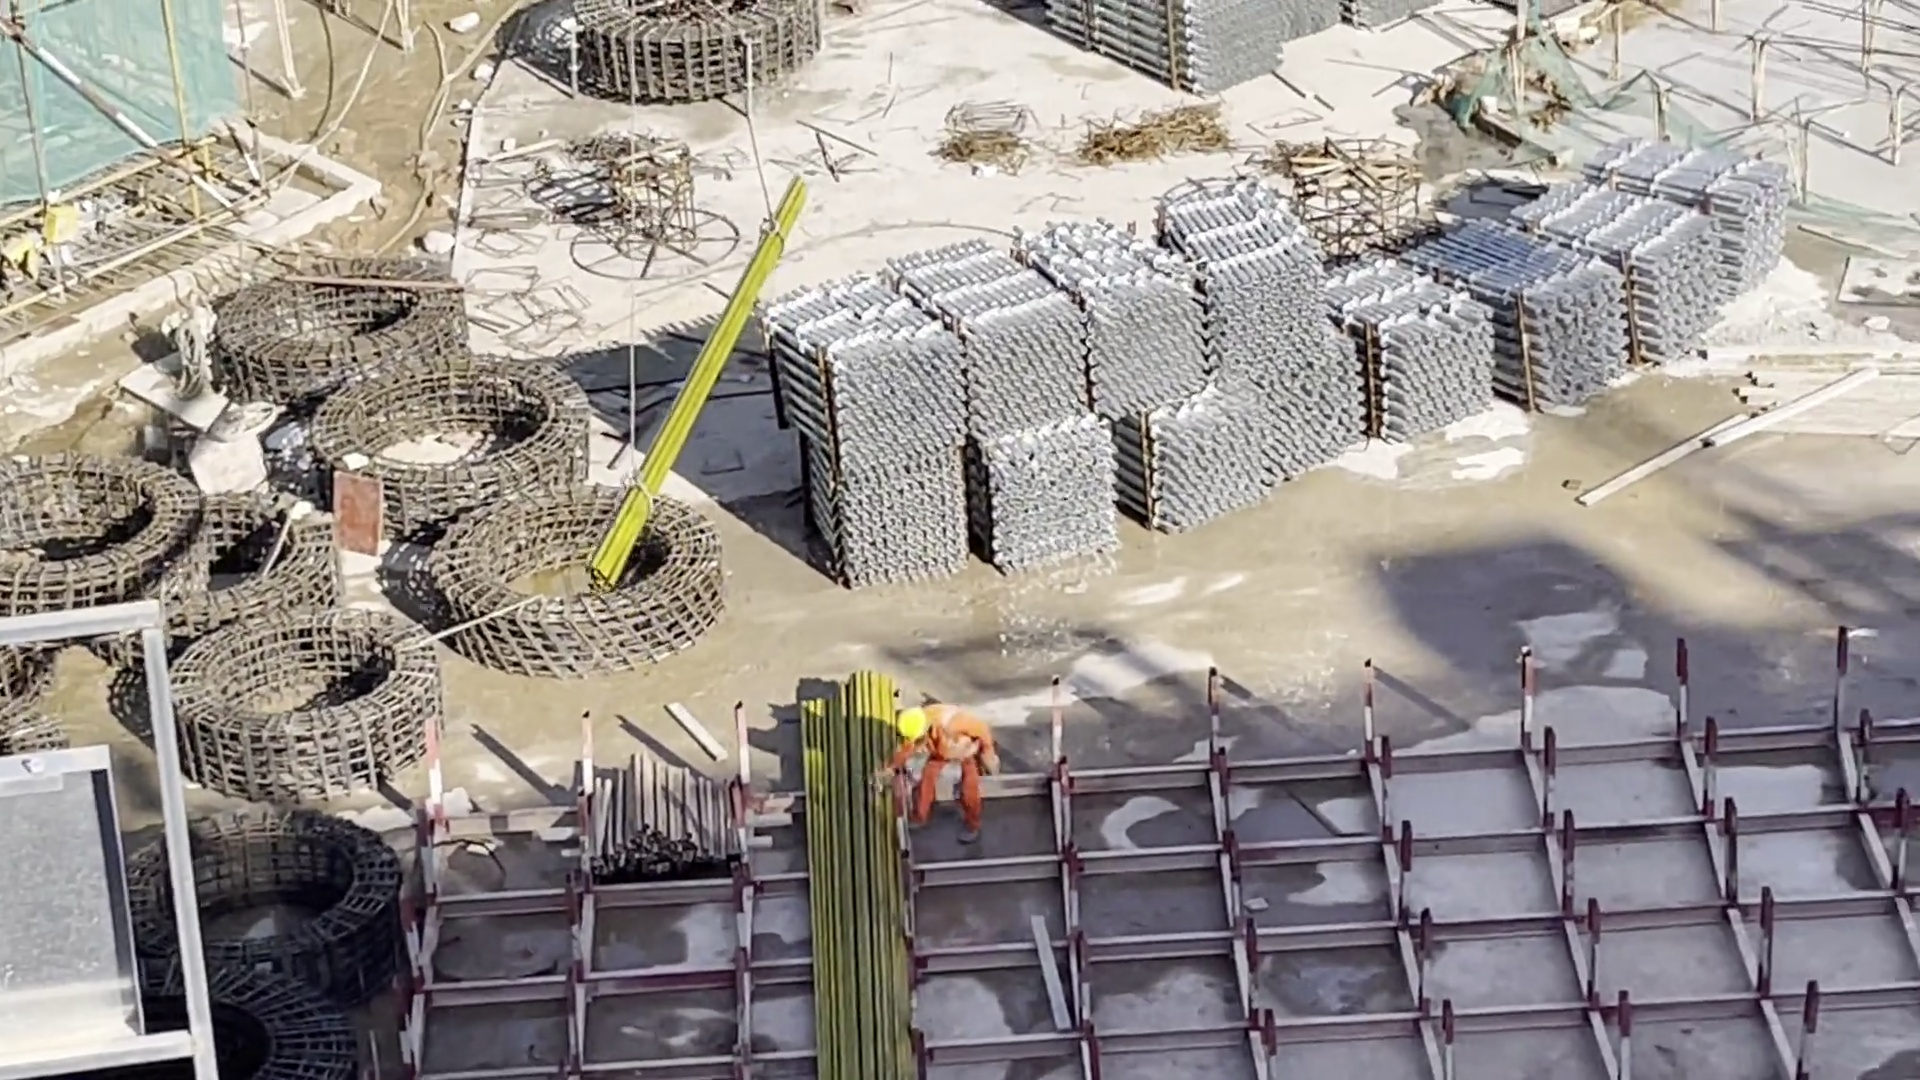helmet: (895, 699, 931, 745)
person: (887, 691, 991, 841)
scaffold: (760, 122, 1789, 587)
